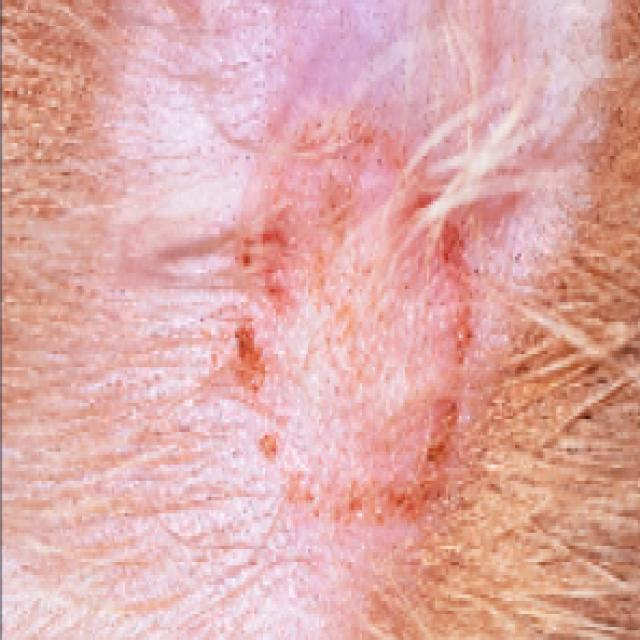hac lao: (194, 100, 502, 581)
